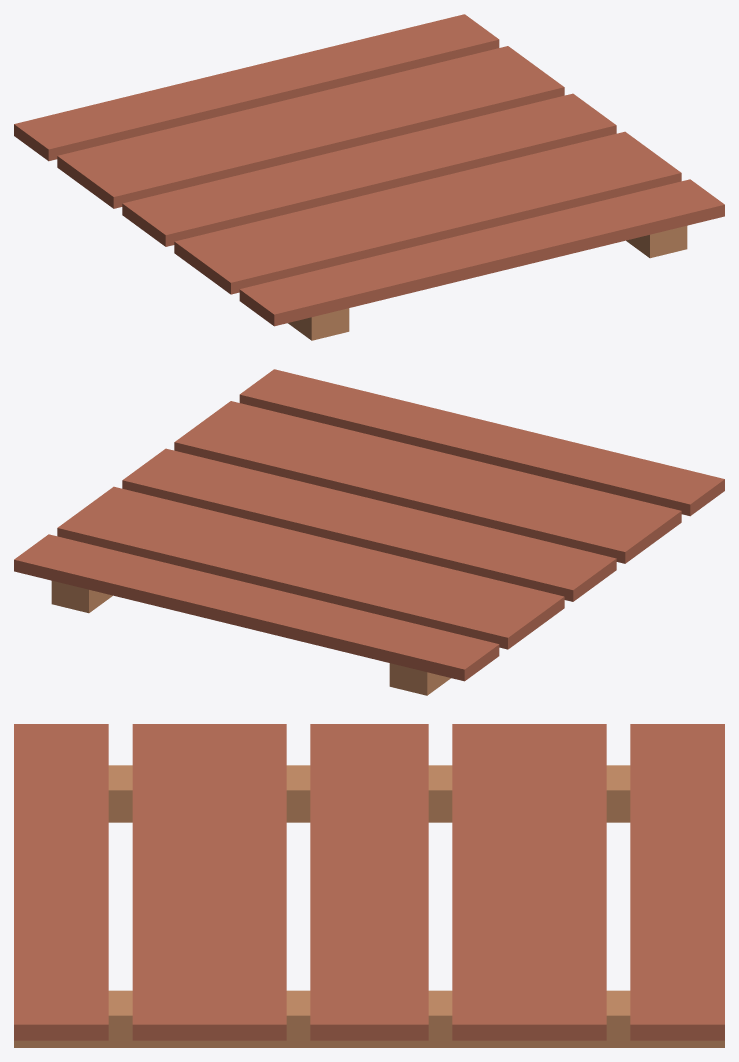
Rendered from wood_prefab_level2.fbx.
The picture shows the model from 3 angles, top to bottom: view 1: azimuth 30°, elevation 25°; view 2: azimuth 150°, elevation 25°; view 3: azimuth 270°, elevation 25°; orthographic projection. The views are drawn at different scales.
Parts seen in each view (by area): view 1: mergedBlocks; view 2: mergedBlocks; view 3: mergedBlocks.
Boxes of the visible parts, x1,y1,x2,y2 form: mergedBlocks: (14, 14, 724, 340); mergedBlocks: (14, 369, 724, 695); mergedBlocks: (14, 724, 724, 1047).
Size of the model in its own units: 10 by 0.75 by 10.
